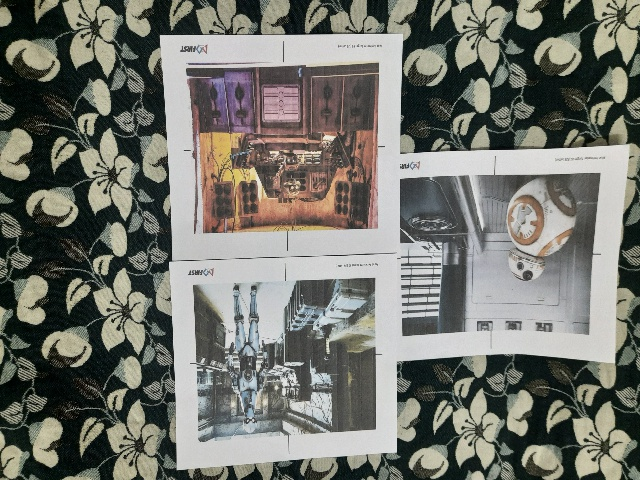bpt1: (408, 153, 607, 358)
fpt1: (184, 272, 387, 452)
rept1: (182, 50, 383, 248)
